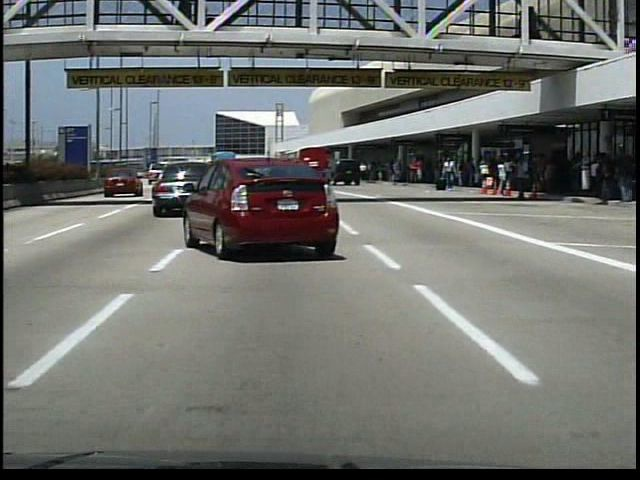person: (510, 152, 534, 205), (441, 156, 458, 193), (178, 1, 194, 28), (409, 157, 422, 185), (357, 163, 367, 181)
